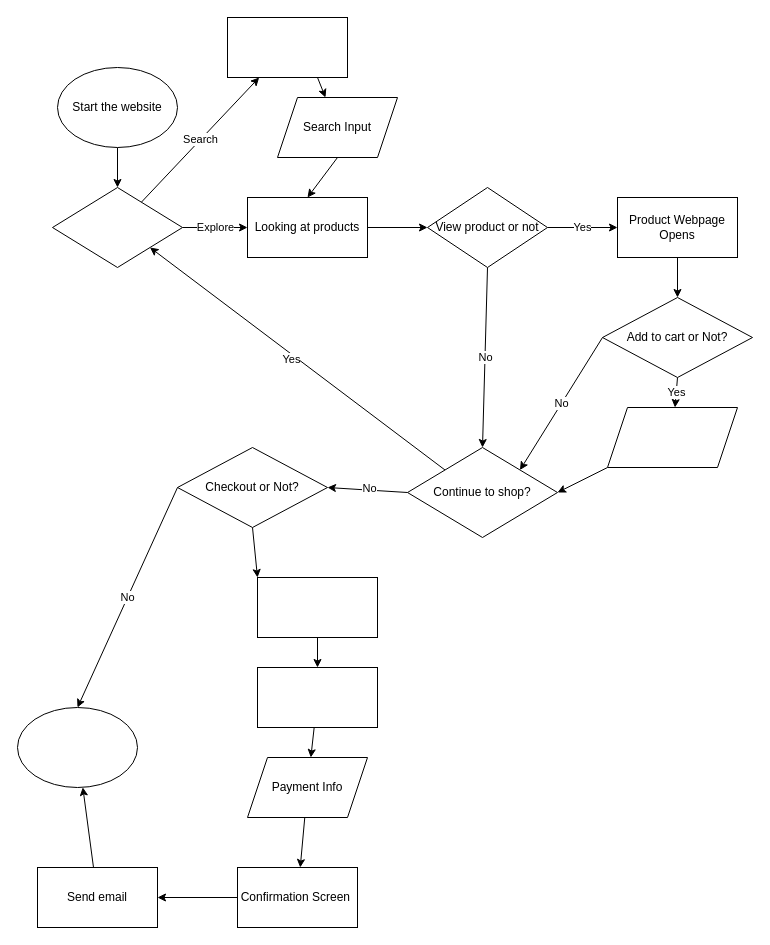
The diagram is 770 pixels wide and 945 high, and some of its shapes have lost their labels. Here are the shapes that lost their labels. From the top down, the box of each, then its label:
(226, 16, 348, 78): Provide input of their search
(52, 186, 182, 268): Search or Explore
(606, 406, 738, 468): Added Product
(256, 576, 378, 638): View Cart
(256, 666, 378, 728): View Payment
(16, 706, 138, 788): Leave website
